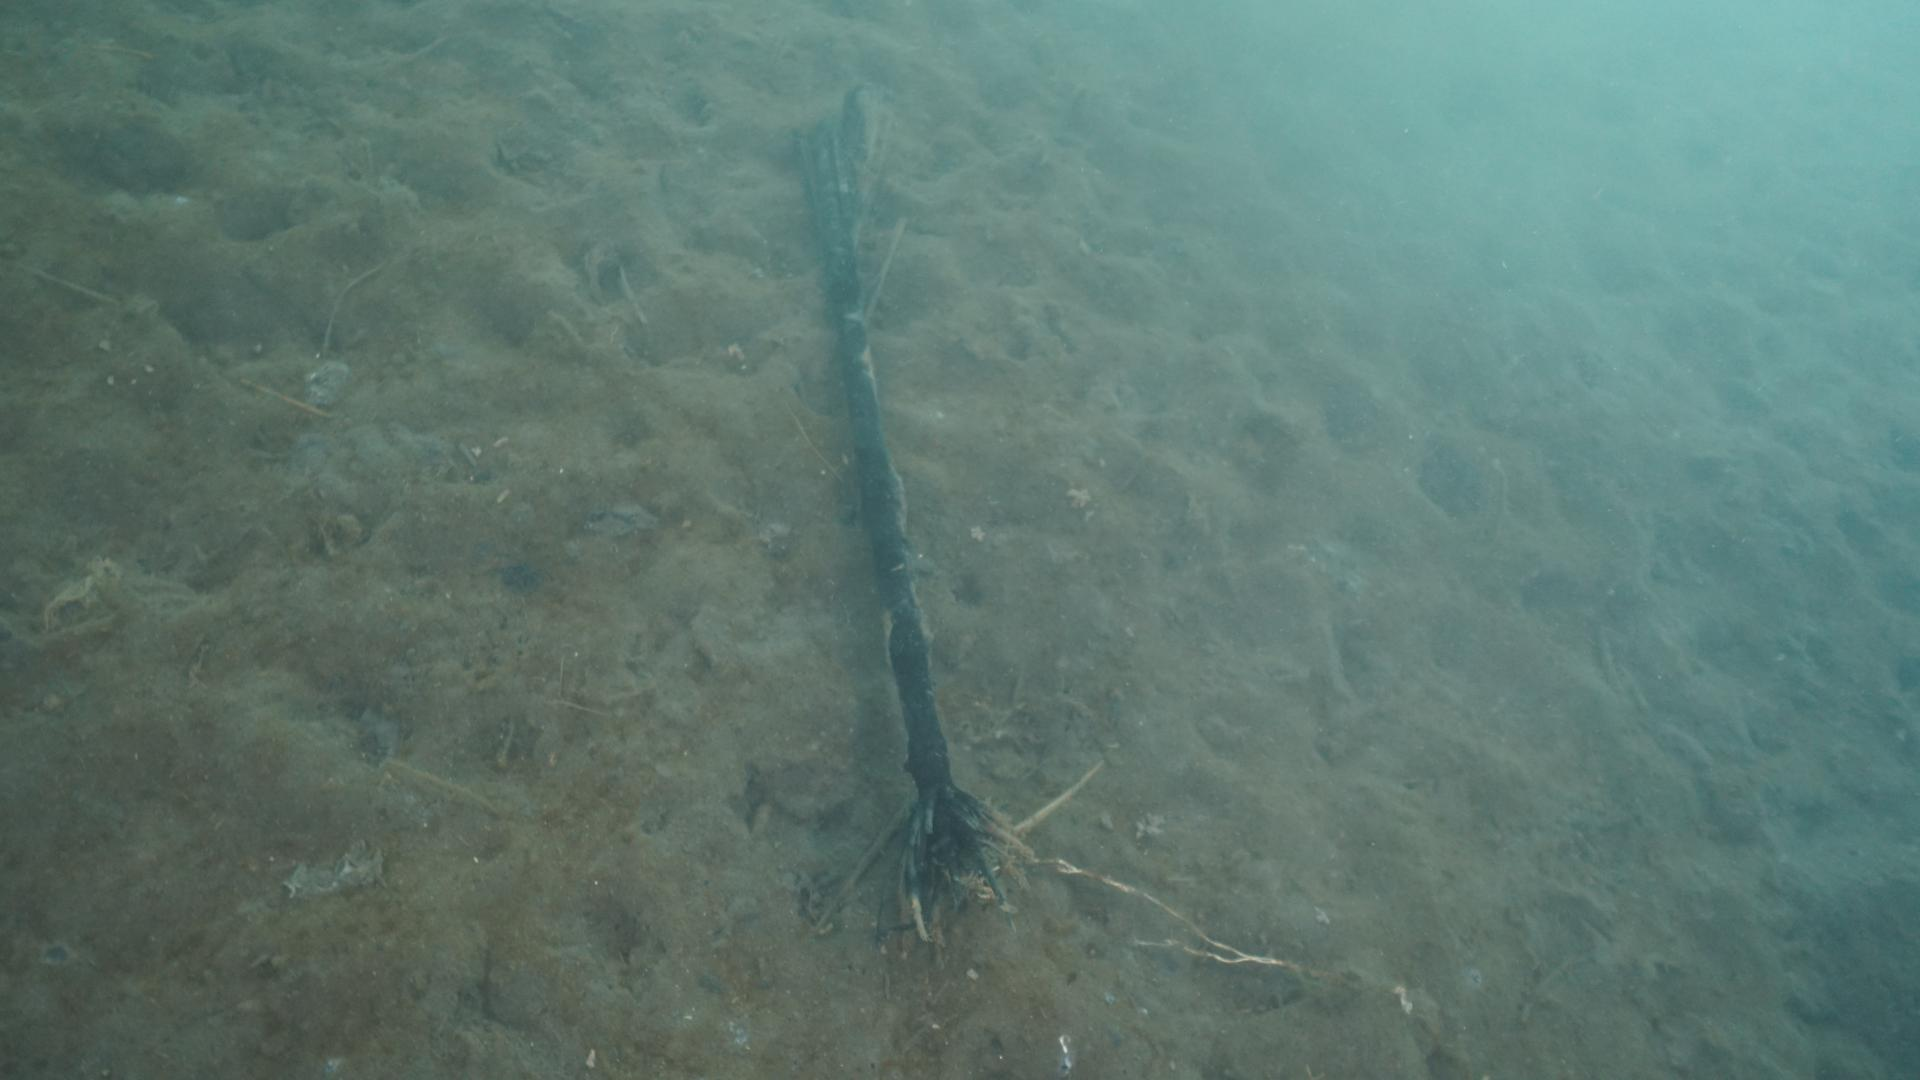wood: (793, 83, 1036, 944)
